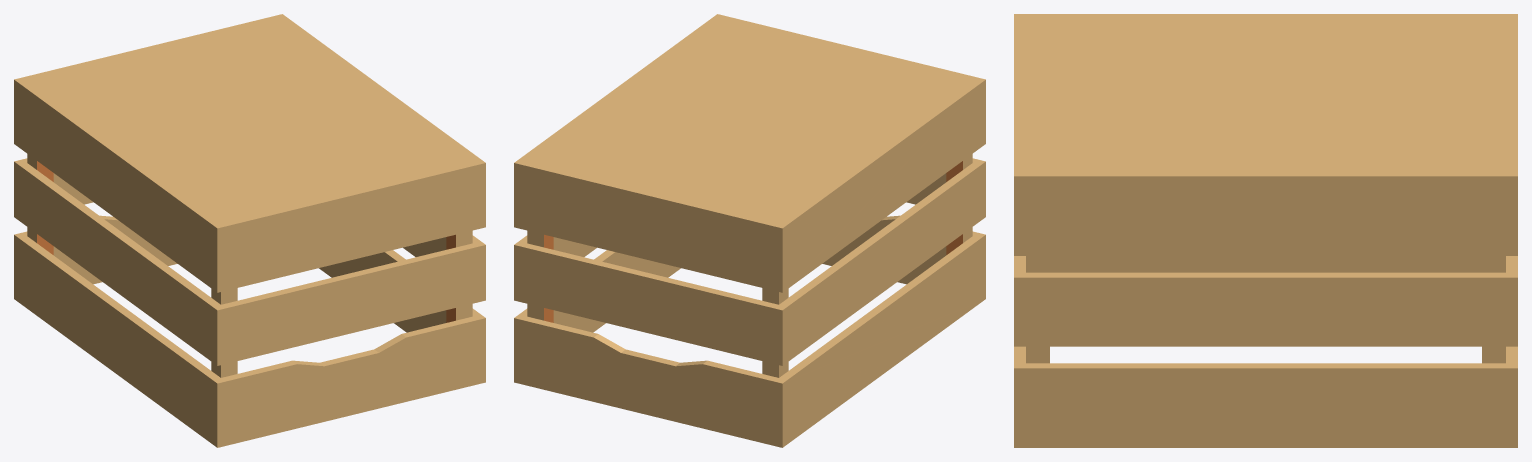
File: Cajas.fbx
The picture shows the model from 3 angles, left to right: view 1: azimuth 30°, elevation 25°; view 2: azimuth 150°, elevation 25°; view 3: azimuth 270°, elevation 25°; orthographic projection. The views are drawn at different scales.
Visible parts, largest first — view 1: Caja; view 2: Caja; view 3: Caja.
Boxes of the visible parts, bbox=[...] form: Caja: bbox=[14, 14, 485, 447]; Caja: bbox=[514, 14, 985, 447]; Caja: bbox=[1014, 14, 1517, 447].
Size of the model in its own units: 32 by 25 by 42.
